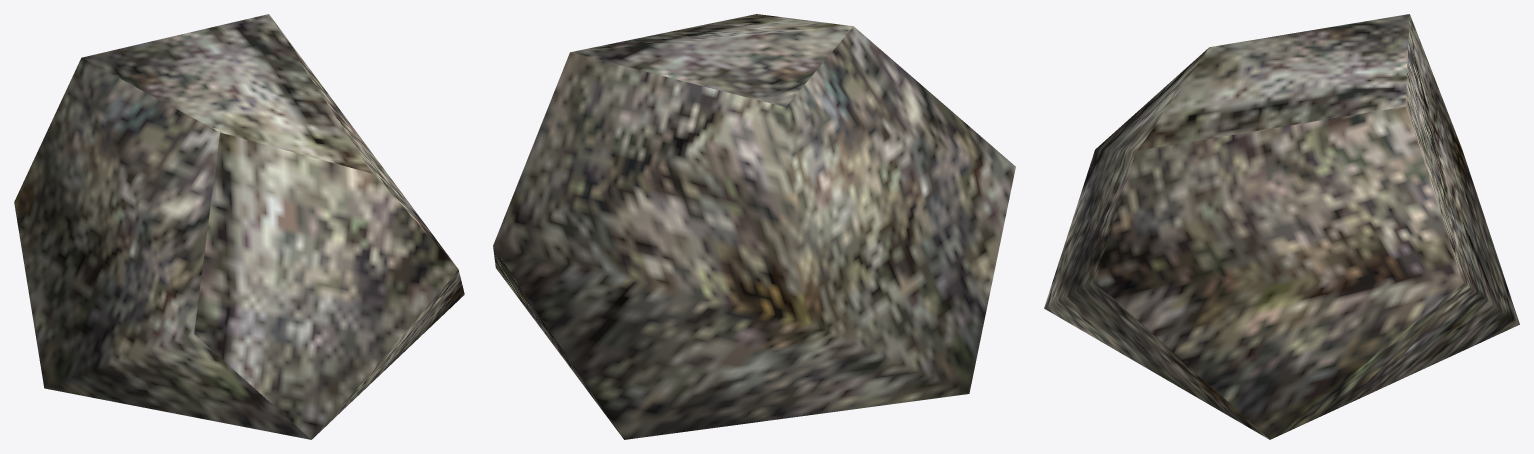
The model's file is general_obj_pieceofstone04.fbx.
3 renders of one model, left to right at view 1: azimuth 30°, elevation 25°; view 2: azimuth 150°, elevation 25°; view 3: azimuth 270°, elevation 25°, orthographic. The views are drawn at different scales.
Visible parts, largest first — view 1: Object05; view 2: Object05; view 3: Object05.
Boxes of the visible parts, x1,y1,x2,y2 form: Object05: [14, 14, 464, 439]; Object05: [493, 14, 1015, 439]; Object05: [1044, 14, 1519, 439].
Size of the model in its own units: 0.2759 by 0.1689 by 0.2707.
